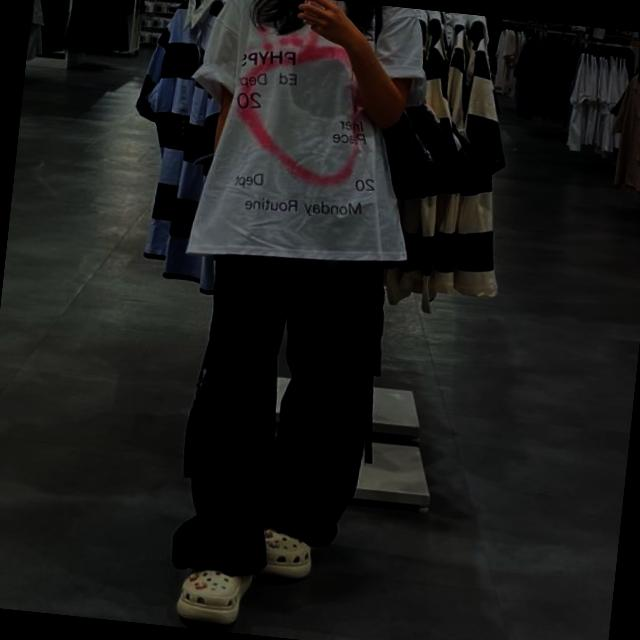denimpants: (168, 242, 389, 590)
shortsleeve: (170, 0, 436, 278)
